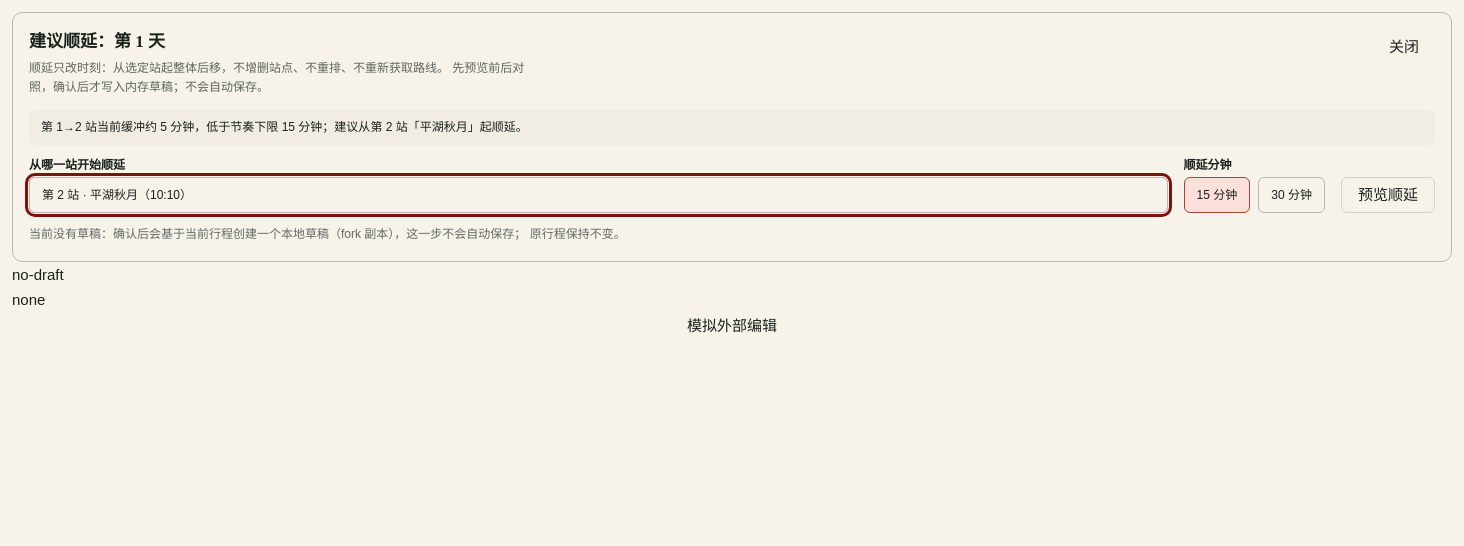
Test: PostponePanel › 确认才创建草稿并写入；应用后体检重跑；撤销一次整体恢复
Click the button with test id "postpone-preview-action".
click(1388, 195)  # box [1341, 177, 1435, 213]
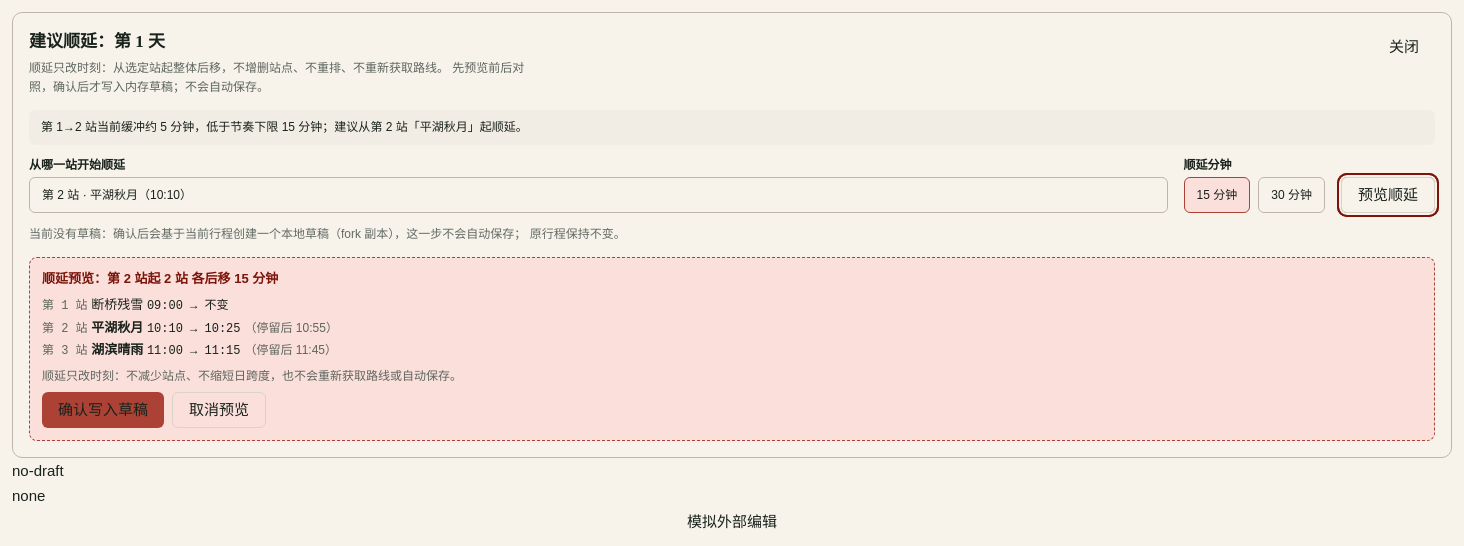
Click the button with test id "postpone-confirm".
click(103, 410)  # box [42, 392, 164, 428]
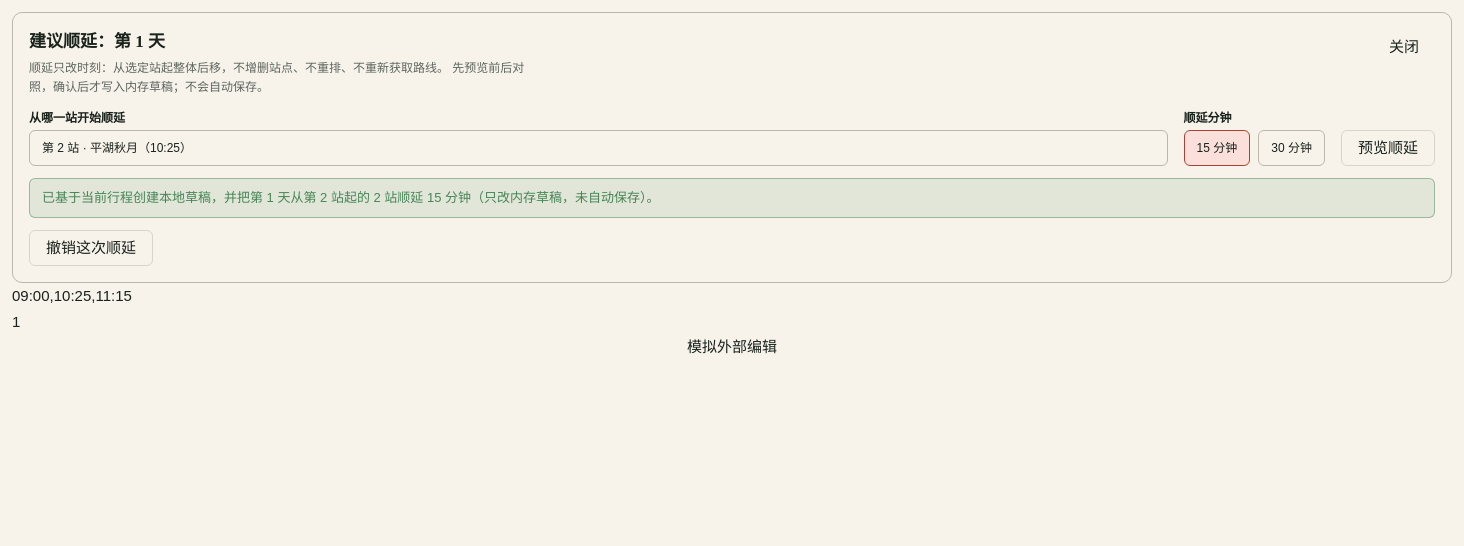
Expected: the text with test id "harness-times" reads "09:00,10:25,11:15", [12, 287, 132, 304]
Expected: the button with test id "postpone-undo" is enabled
Click the button with test id "postpone-undo".
click(91, 248)  # box [29, 230, 153, 266]
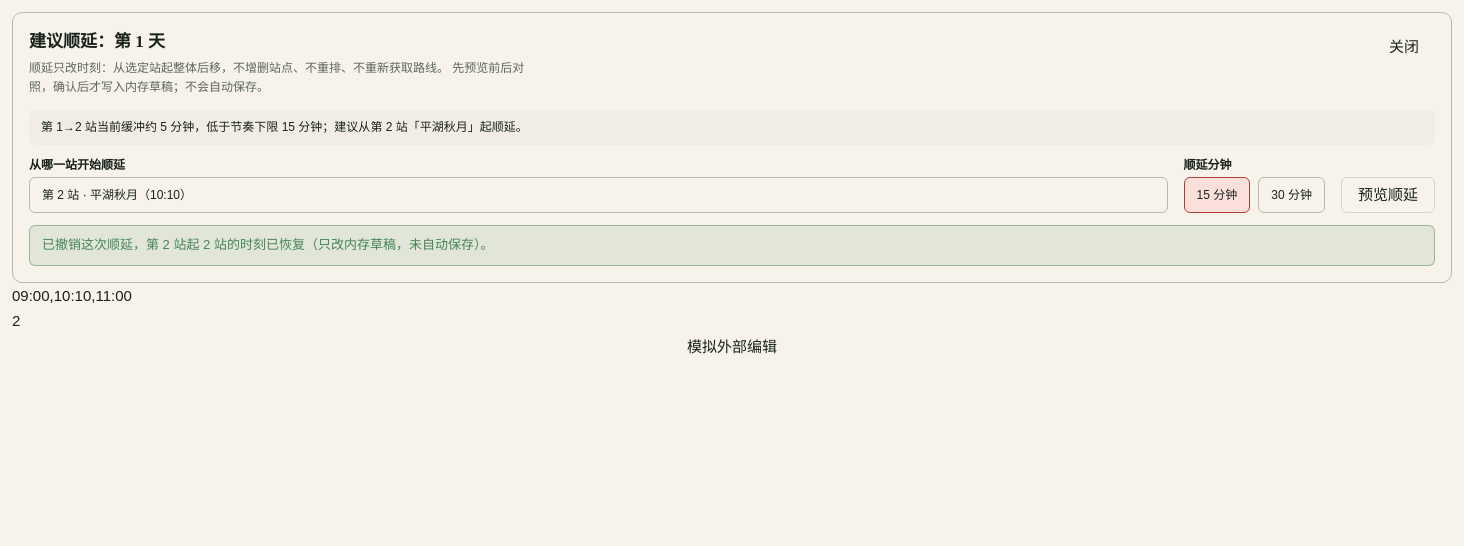
Expected: the text with test id "harness-times" reads "09:00,10:10,11:00", [12, 287, 132, 304]
